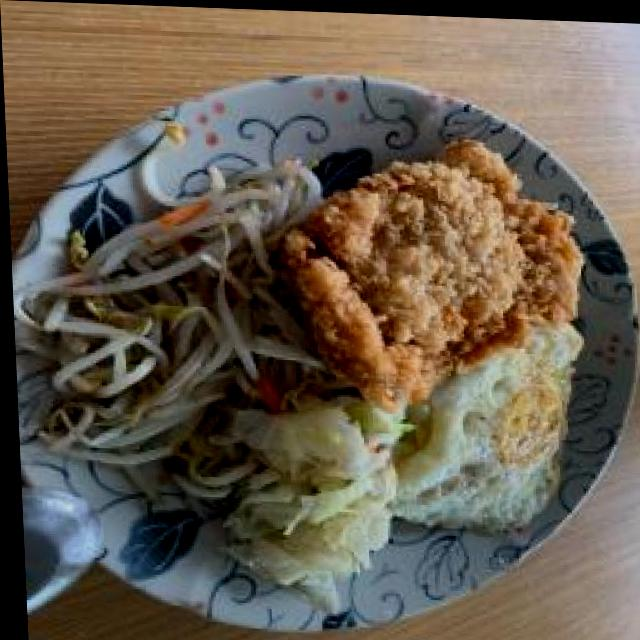chinese_cabbage: (214, 396, 405, 586)
fried_chicken: (290, 141, 571, 392)
fried_eggs: (381, 314, 591, 535)
mung_bean_sprouts: (21, 178, 284, 456)
